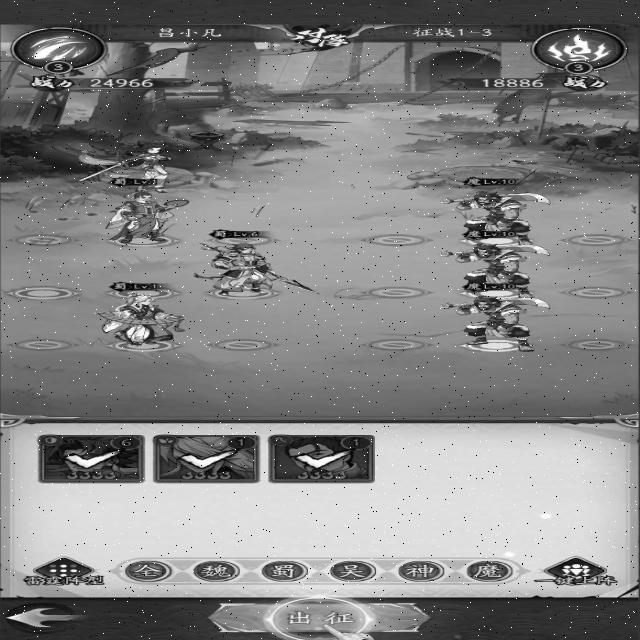hint-guide: (214, 592, 428, 640)
navigation-myHeroes: (31, 430, 148, 484), (269, 431, 381, 485), (149, 431, 263, 484)
operation-back: (5, 602, 88, 632)
operation-camp: (457, 558, 514, 583), (392, 558, 447, 583), (324, 558, 378, 582), (256, 559, 312, 582), (126, 556, 173, 582), (189, 560, 239, 583)
operation-confirm: (218, 602, 424, 633)
operation-deployment: (20, 554, 109, 590)
operation-oneKeyDeployment: (526, 554, 620, 590)
